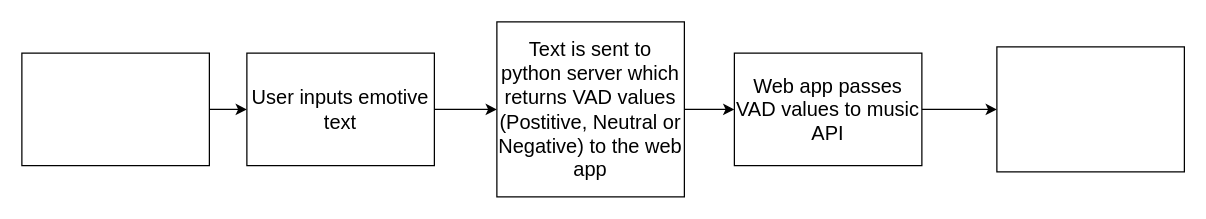
Image size: 1206x219. Some labels were removed from this diagram. Each missing label, with the box of its shape:
Music API returns a song, and a calculated Ekmans emotion: (996, 46, 1184, 172)
User grants the application authentication to Spotify account: (21, 52, 209, 166)
